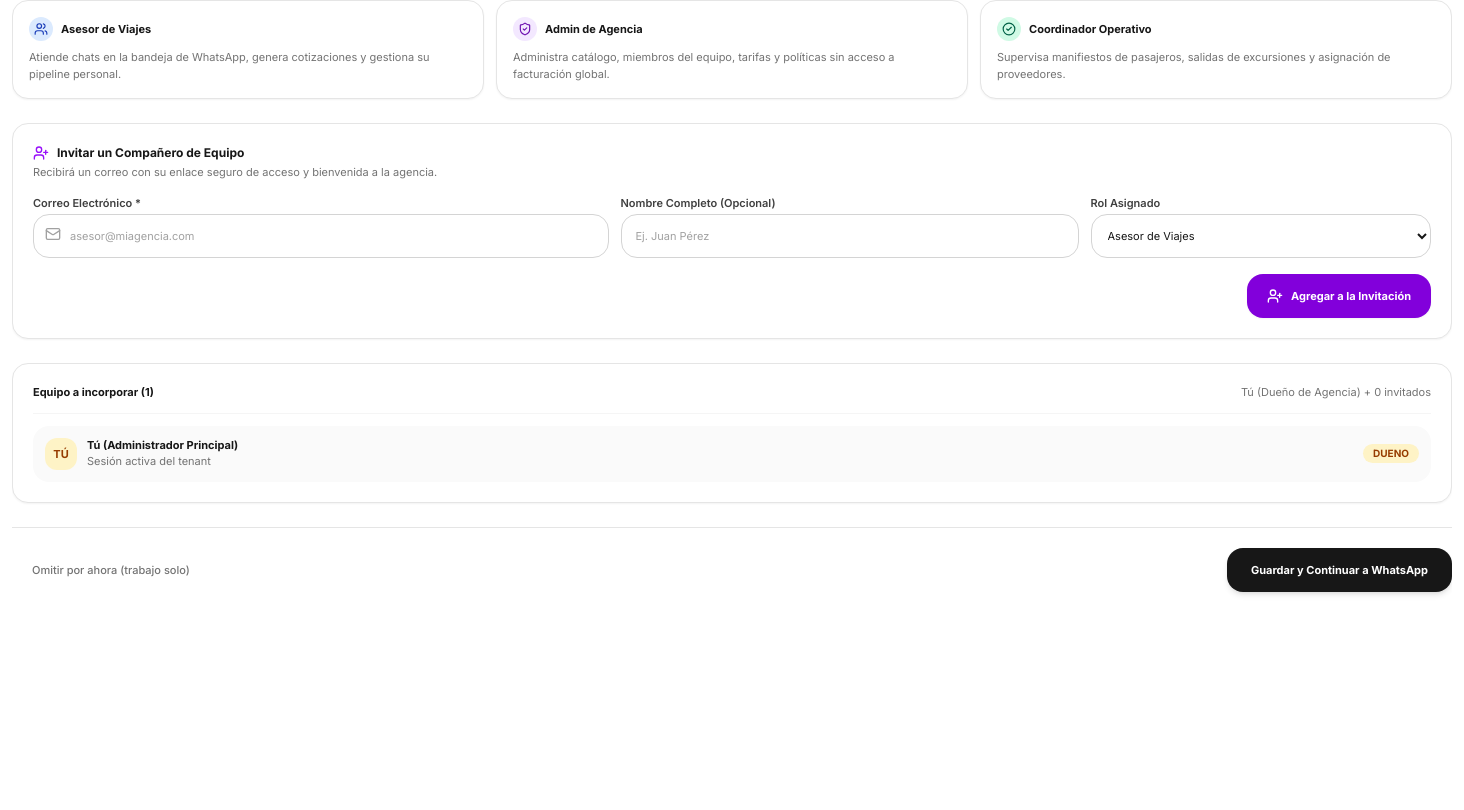
it: PasoEquipo — Invitación de Asesores y Roles (T-105) › 2. Valida correo requerido y formato al agregar un miembro
Click the button with test id "btn-agregar-miembro-onboarding". click: coordinates (1339, 296)
box: [1247,274,1431,318]
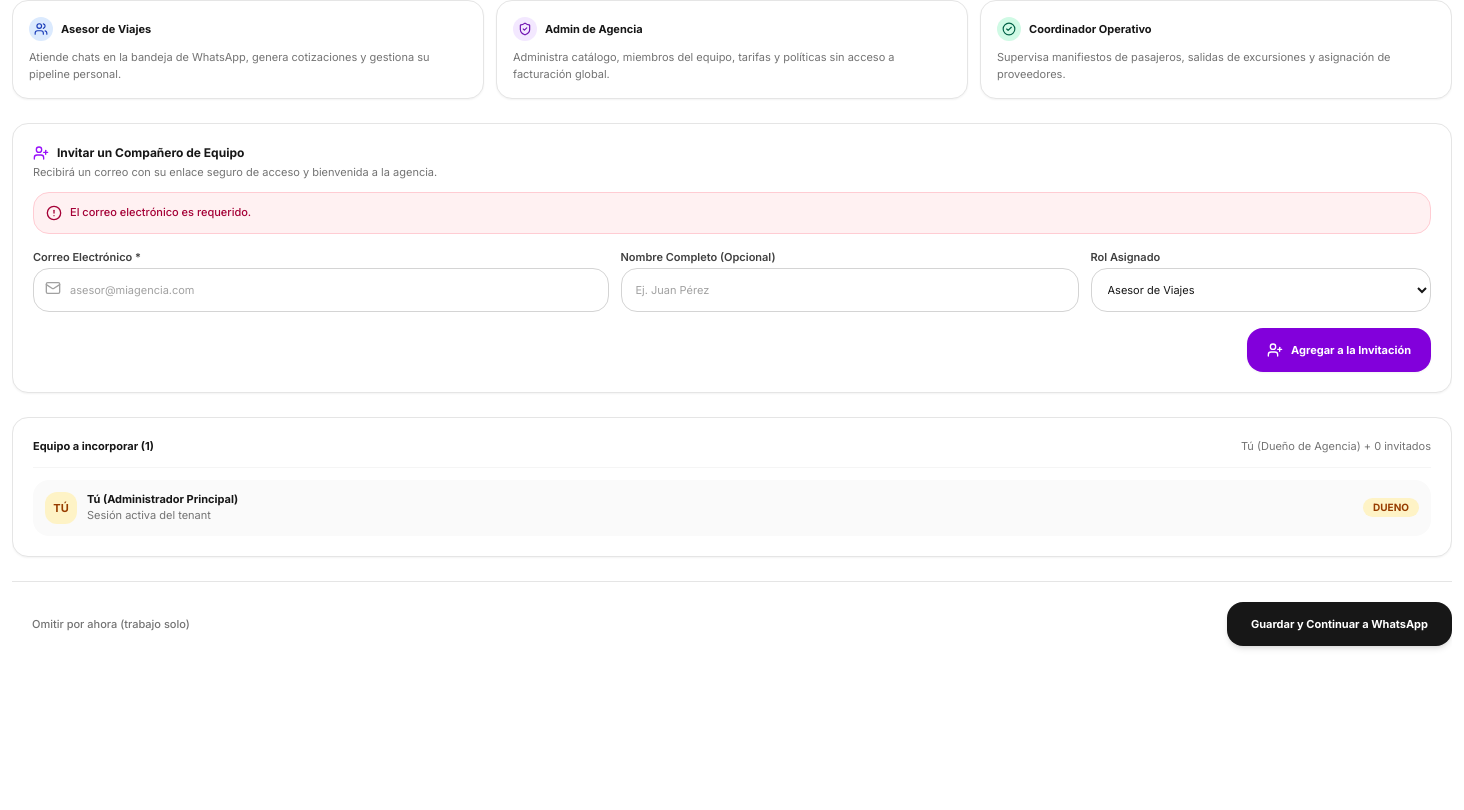
Expected: the text "El correo electrónico es requerido." is shown, [70,206,251,220]
Type "correo-sin-formato" into the field with placeholder "asesor@miagencia.com". click: coordinates (321, 290)
box: [33,268,608,312]
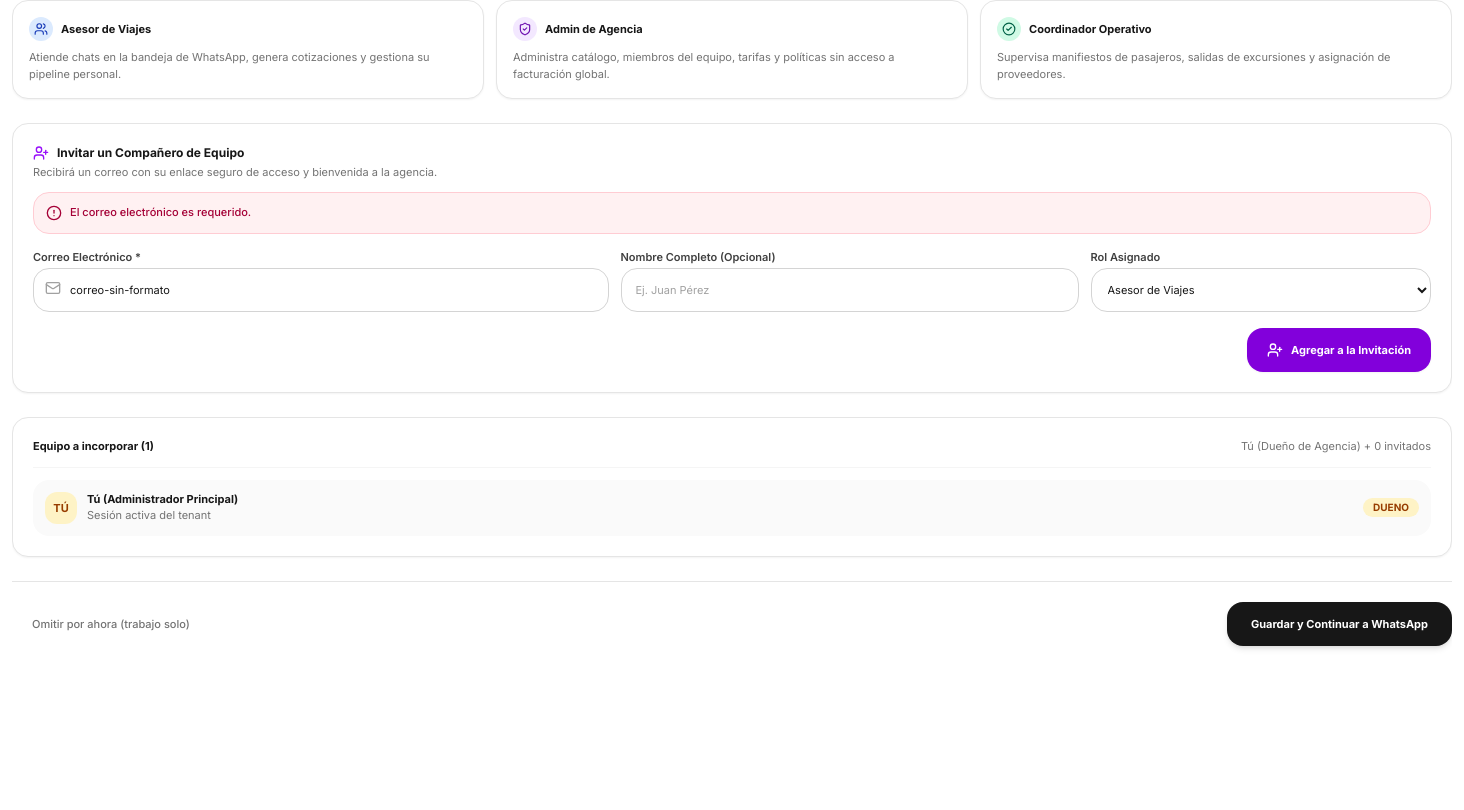
Click the button with test id "btn-agregar-miembro-onboarding". click: coordinates (1339, 350)
box: [1247,328,1431,372]
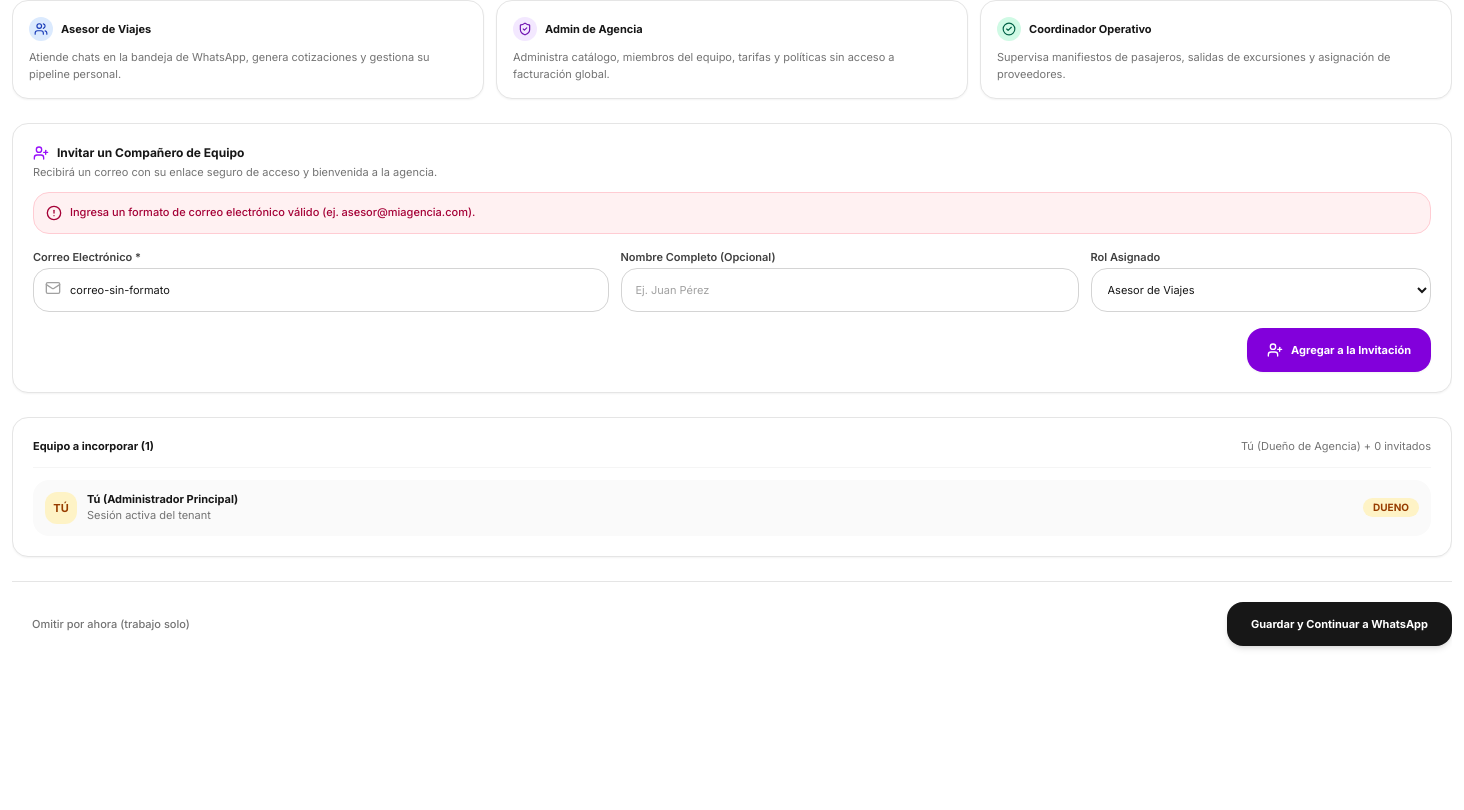
Expected: the text "formato de correo electrónico válido" is shown, [70,206,475,220]
